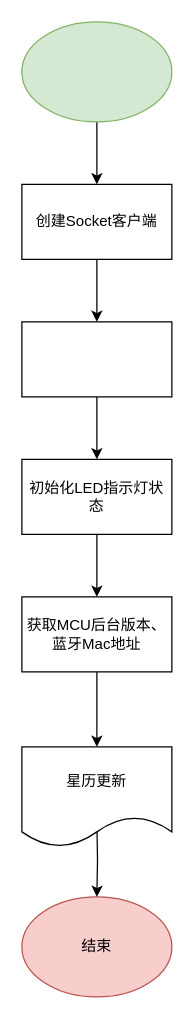
This 194x1019 diagram has some shape labels left out. Each missing label, with the centre of its shape:
"启动" belongs at pixel 96 71.
"获取设备状态" belongs at pixel 96 359.
